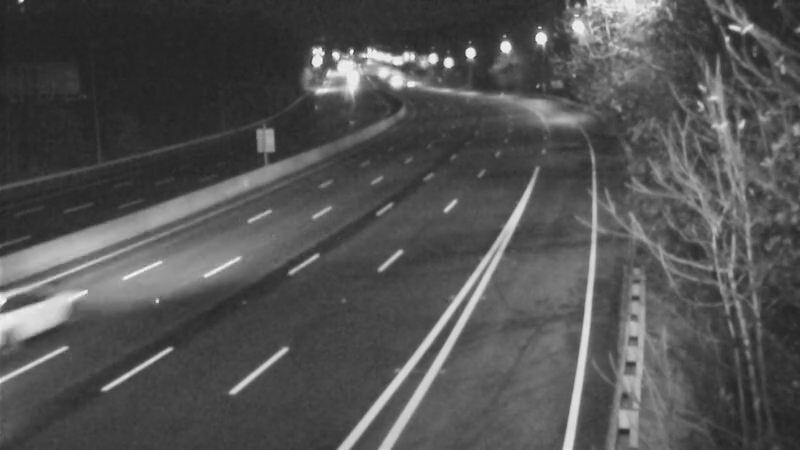vehicle: (1, 257, 101, 367), (368, 56, 418, 106), (382, 58, 432, 108)
